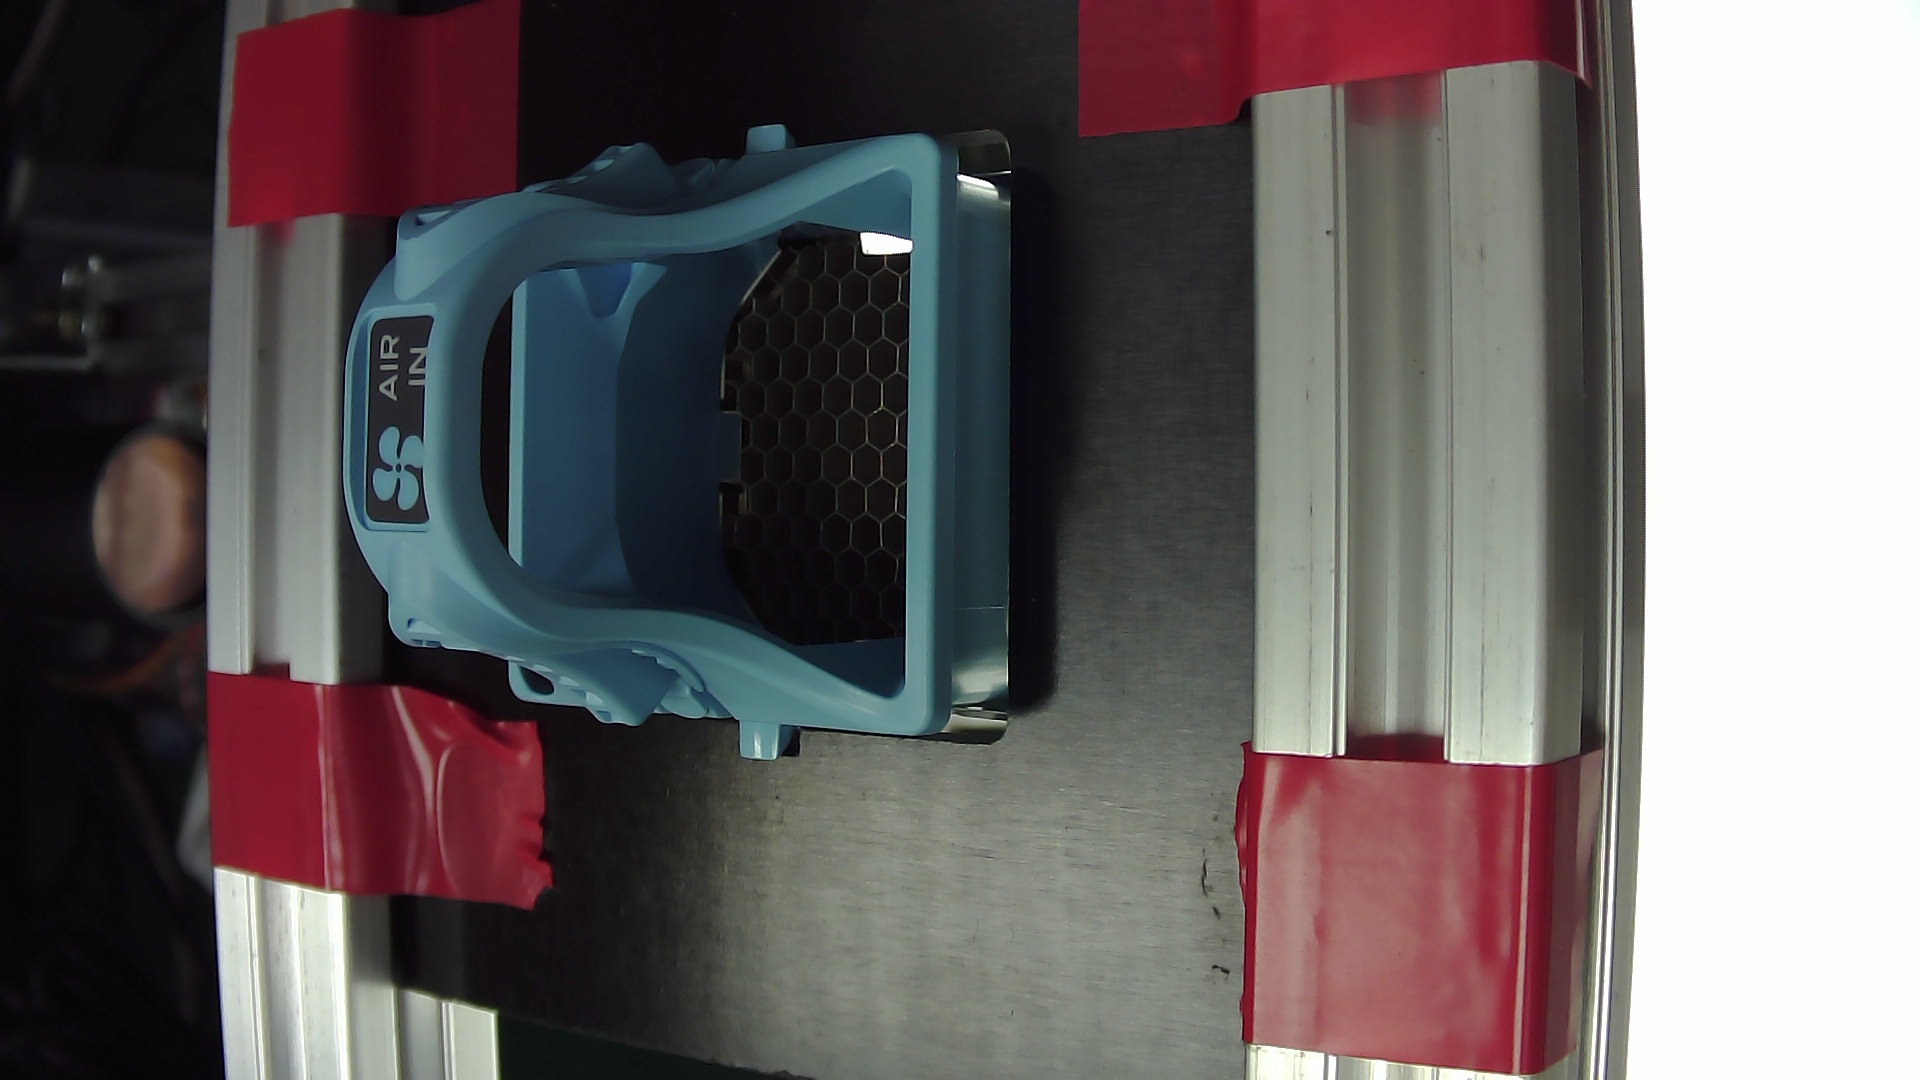2_0: (339, 88, 1067, 791)
